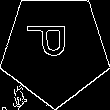P_E: (31, 31, 79, 67)
